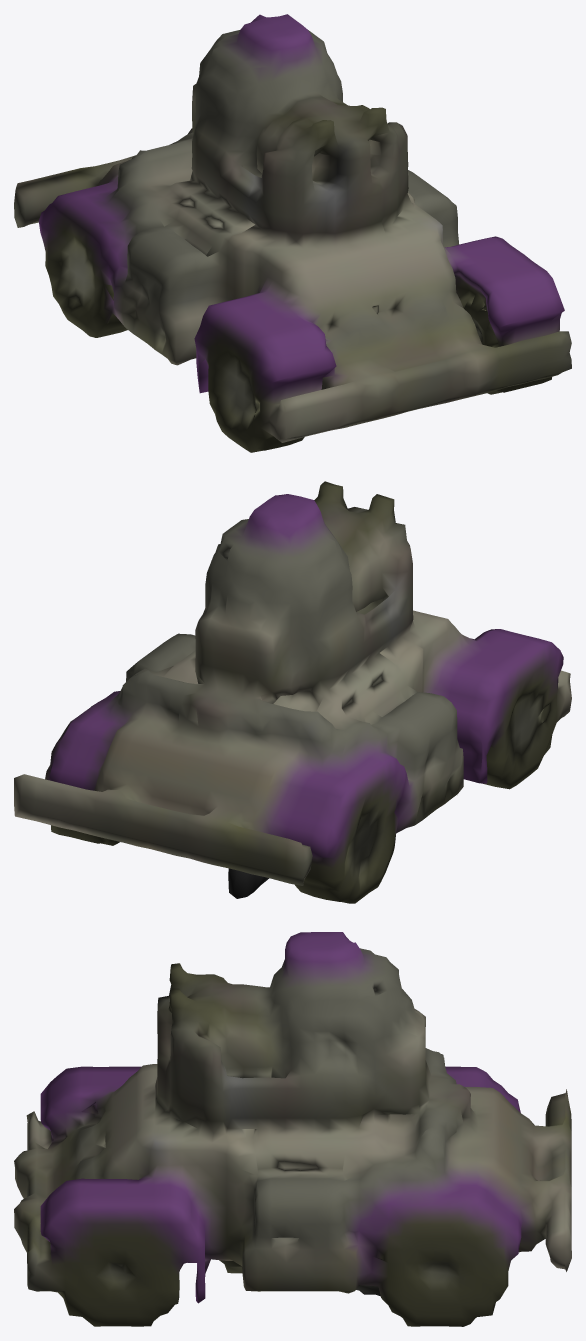
File: gattling_tank.glb
3 views of the same model, one above another, from view 1: azimuth 30°, elevation 25°; view 2: azimuth 150°, elevation 25°; view 3: azimuth 270°, elevation 25° (orthographic).
Visible parts, largest first — view 1: gattling_tank; view 2: gattling_tank; view 3: gattling_tank.
Boxes of the visible parts, <box> form: gattling_tank: <box>14,14,571,452</box>; gattling_tank: <box>14,481,571,903</box>; gattling_tank: <box>14,932,571,1326</box>.
Size of the model in its own units: 2.23 by 2.58 by 3.63.
